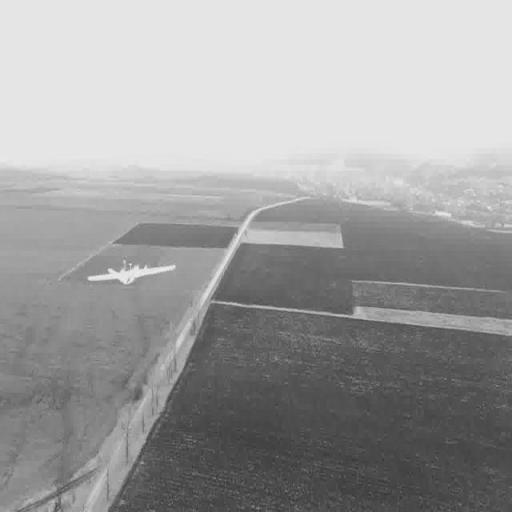uav: (80, 240, 178, 306)
